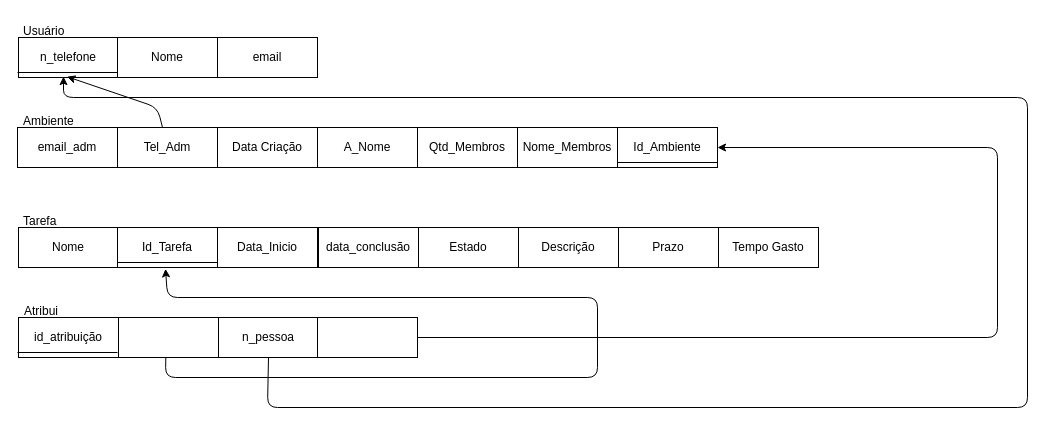
This 1053x433 diagram has some shape labels left out. The centre of each missing label's shape, as x and y in pixels:
"Amb_Atribuído" goes at (367,337).
"Tarefa_at" goes at (168,337).
